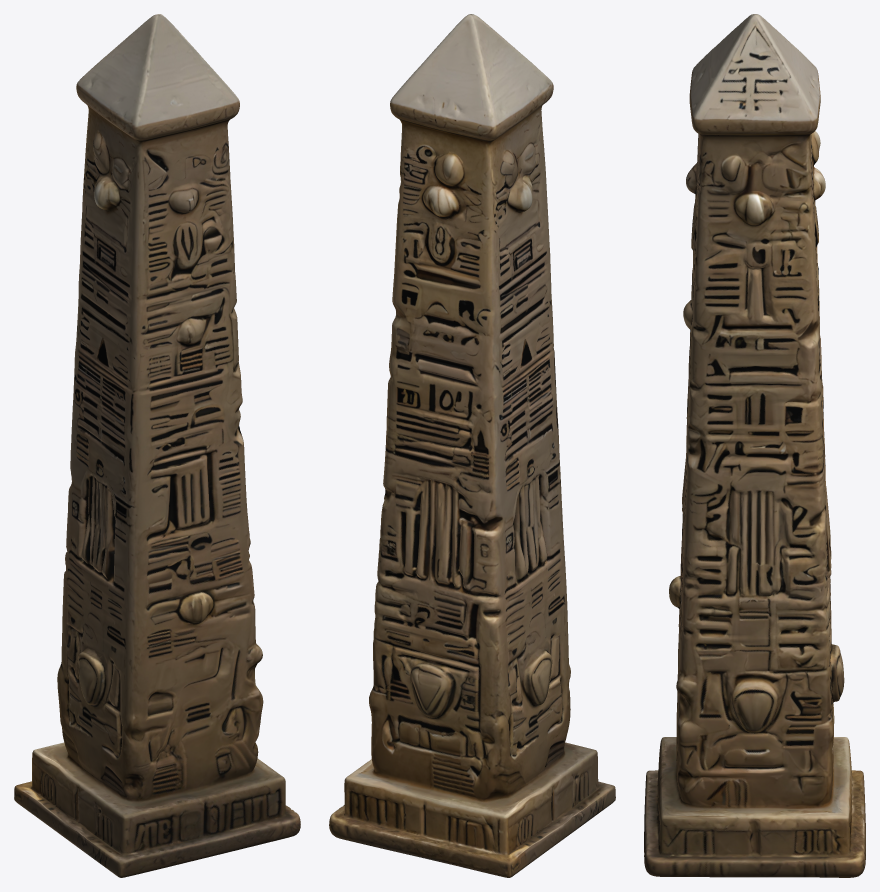
The model's file is building-obelisk-tall.glb.
3 renders of one model, left to right at view 1: azimuth 30°, elevation 25°; view 2: azimuth 150°, elevation 25°; view 3: azimuth 270°, elevation 25°, orthographic.
Parts seen in each view (by area): view 1: tripo_node_3242c0da-3e11-4e7c-a729-fa3bbe9c106a; view 2: tripo_node_3242c0da-3e11-4e7c-a729-fa3bbe9c106a; view 3: tripo_node_3242c0da-3e11-4e7c-a729-fa3bbe9c106a.
Part boxes in pixels (x1,y1,x2,y2): tripo_node_3242c0da-3e11-4e7c-a729-fa3bbe9c106a: (14,14,300,877); tripo_node_3242c0da-3e11-4e7c-a729-fa3bbe9c106a: (329,14,615,877); tripo_node_3242c0da-3e11-4e7c-a729-fa3bbe9c106a: (644,14,865,877).
Bounding box in the file's own units: 4.84 × 20 × 4.9.
1 material, 1 textured.
